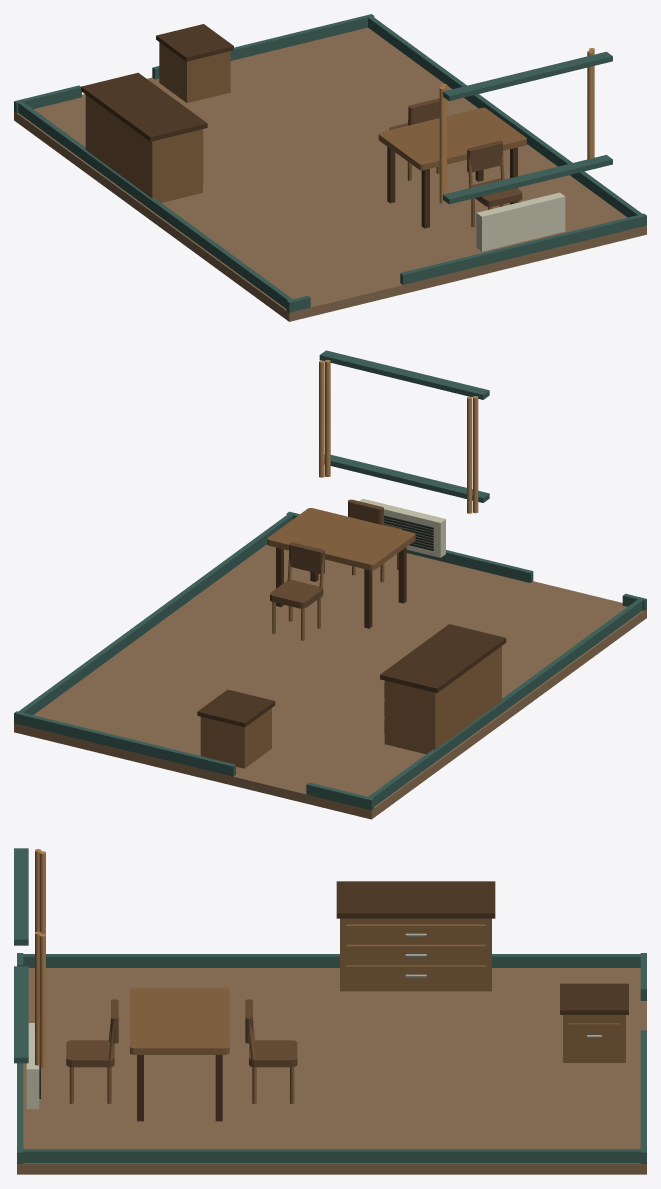
The model's file is SM_Town_Motel_Room6Interior_LOD2.fbx.
3 renders of one model, top to bottom at view 1: azimuth 30°, elevation 25°; view 2: azimuth 150°, elevation 25°; view 3: azimuth 270°, elevation 25°, orthographic. The views are drawn at different scales.
Parts seen in each view (by area): view 1: SM_Town_Motel_Room6Interior_LOD2; view 2: SM_Town_Motel_Room6Interior_LOD2; view 3: SM_Town_Motel_Room6Interior_LOD2.
Part boxes in pixels (bbox=[...]): SM_Town_Motel_Room6Interior_LOD2: bbox=[14, 14, 646, 321]; SM_Town_Motel_Room6Interior_LOD2: bbox=[14, 350, 646, 819]; SM_Town_Motel_Room6Interior_LOD2: bbox=[14, 848, 646, 1174].
Bounding box in the file's own units: 4.5 × 6.03 × 2.26.
